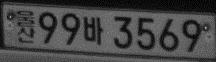3: (113, 15, 133, 49)
5: (137, 17, 156, 50)
6: (158, 18, 178, 51)
9: (181, 18, 202, 51), (60, 12, 80, 45), (38, 11, 58, 43)
바: (82, 15, 104, 46)
울산_V: (16, 9, 36, 43)
